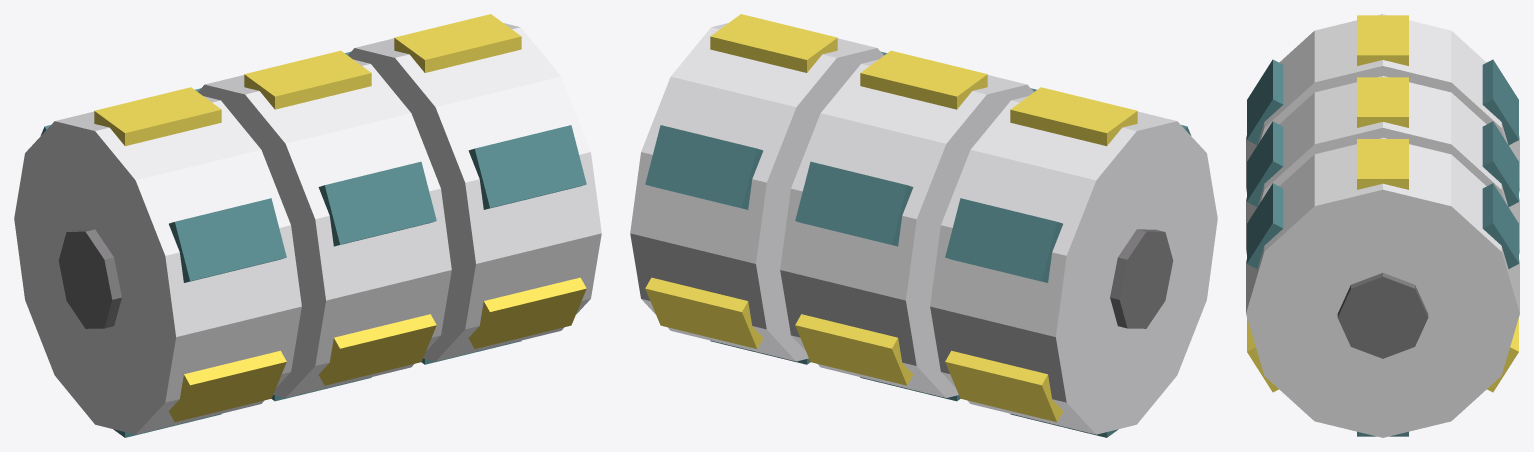
The model's file is slot_reels.glb.
The picture shows the model from 3 angles, left to right: view 1: azimuth 30°, elevation 25°; view 2: azimuth 150°, elevation 25°; view 3: azimuth 270°, elevation 25°; orthographic projection. The views are drawn at different scales.
Visible parts, largest first — view 1: slot_reels; view 2: slot_reels; view 3: slot_reels.
Boxes of the visible parts, x1=… form: slot_reels: x1=14, y1=14, x2=601, y2=437; slot_reels: x1=630, y1=14, x2=1217, y2=437; slot_reels: x1=1246, y1=14, x2=1519, y2=437.
Size of the model in its own units: 0.46 by 0.301 by 0.29.
